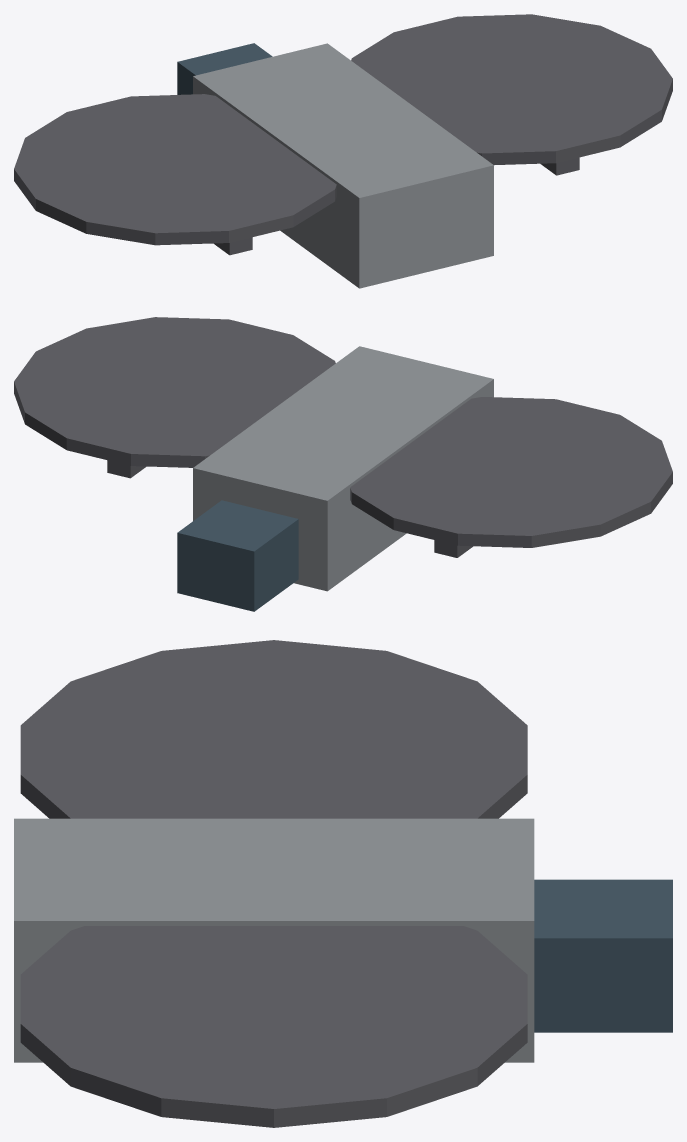
Rendered from chinese_drone.glb.
3 renders of one model, top to bottom at view 1: azimuth 30°, elevation 25°; view 2: azimuth 150°, elevation 25°; view 3: azimuth 270°, elevation 25°, orthographic. The views are drawn at different scales.
Visible parts, largest first — view 1: Body, radar_l, radar_r, Head, ArmR, ArmL; view 2: radar_l, radar_r, Body, Head; view 3: radar_r, radar_l, Body, Head.
Boxes of the visible parts, left/top/right/bottom form: Body: left=193, top=43, right=493, bottom=288; radar_l: left=14, top=94, right=336, bottom=245; radar_r: left=351, top=14, right=672, bottom=165; Head: left=177, top=43, right=272, bottom=94; ArmR: left=540, top=157, right=579, bottom=175; ArmL: left=213, top=237, right=252, bottom=255; radar_l: left=350, top=397, right=672, bottom=547; radar_r: left=14, top=317, right=335, bottom=467; Body: left=193, top=346, right=493, bottom=591; Head: left=177, top=500, right=298, bottom=611; radar_r: left=20, top=926, right=527, bottom=1127; radar_l: left=20, top=640, right=527, bottom=818; Body: left=14, top=818, right=534, bottom=1062; Head: left=534, top=879, right=672, bottom=1032.
Bounding box in the file's own units: 3.2 × 0.45 × 1.9.
